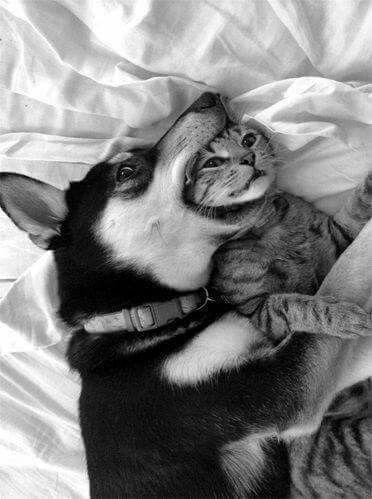kedo: (184, 125, 371, 498)
